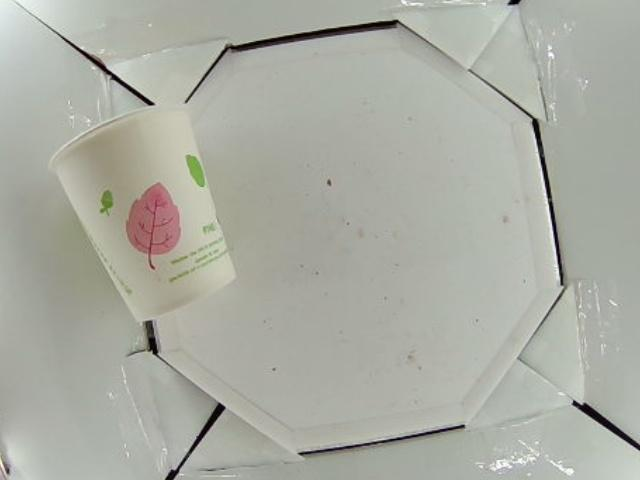Cup: (46, 103, 235, 323)
